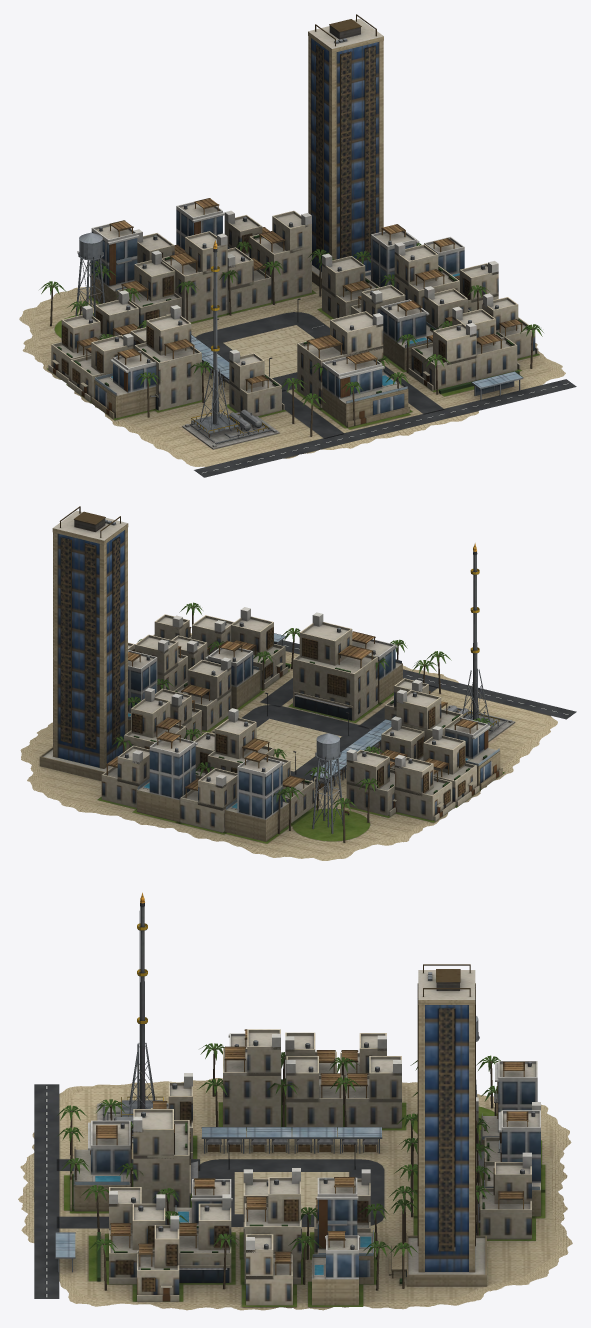
File: modern-town-big-b-levant.glb
3 renders of one model, top to bottom at view 1: azimuth 30°, elevation 25°; view 2: azimuth 150°, elevation 25°; view 3: azimuth 270°, elevation 25°, orthographic. The views are drawn at different scales.
Parts seen in each view (by area): view 1: LOD0; view 2: LOD0; view 3: LOD0.
Part boxes in pixels (<box>): LOD0: <box>19,14,576,477</box>; LOD0: <box>20,506,576,860</box>; LOD0: <box>18,892,572,1310</box>.
Size of what is drawn, in the model's own units: 8.04 by 4.65 by 8.09.
Materials: 3 (3 with a texture image).
